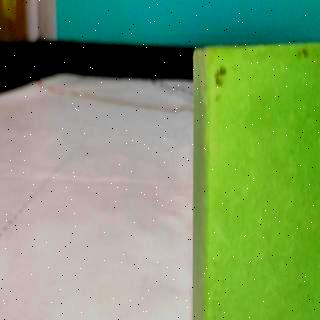greenbox: (192, 48, 320, 320)
